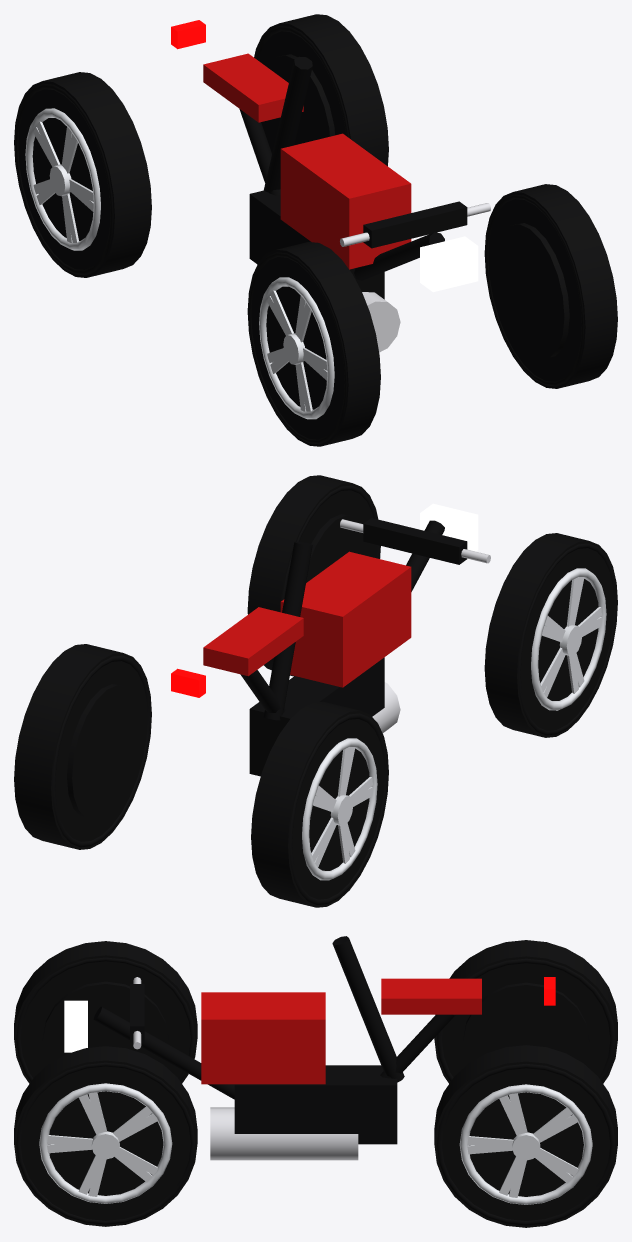
The model's file is raptor.glb.
The picture shows the model from 3 angles, top to bottom: view 1: azimuth 30°, elevation 25°; view 2: azimuth 150°, elevation 25°; view 3: azimuth 270°, elevation 25°; orthographic projection. The views are drawn at different scales.
Parts seen in each view (by area): view 1: Body, Tire, Tire4, Tire2, Tire3, Rim2, Rim4, HeadLights, TailLights; view 2: Body, Tire3, Tire4, Tire2, Tire, Rim2, Rim4, HeadLights, TailLights; view 3: Body, Tire3, Tire, Tire4, Tire2, Rim3, Rim, HeadLights.
Boxes of the visible parts, bbox=[...] form: Body: bbox=[203, 53, 490, 352]; Tire: bbox=[484, 184, 617, 388]; Tire4: bbox=[14, 72, 151, 277]; Tire2: bbox=[247, 242, 380, 446]; Tire3: bbox=[254, 14, 388, 166]; Rim2: bbox=[259, 277, 334, 419]; Rim4: bbox=[25, 108, 100, 250]; HeadLights: bbox=[420, 236, 478, 292]; TailLights: bbox=[171, 20, 205, 49]; Body: bbox=[203, 518, 490, 776]; Tire3: bbox=[14, 644, 151, 849]; Tire4: bbox=[251, 701, 388, 907]; Tire2: bbox=[484, 533, 617, 737]; Tire: bbox=[247, 475, 380, 676]; Rim2: bbox=[531, 568, 606, 710]; Rim4: bbox=[302, 738, 377, 880]; HeadLights: bbox=[420, 503, 478, 551]; TailLights: bbox=[171, 668, 205, 697]; Body: bbox=[93, 936, 481, 1160]; Tire3: bbox=[434, 1045, 617, 1227]; Tire: bbox=[14, 1046, 197, 1226]; Tire4: bbox=[434, 940, 617, 1083]; Tire2: bbox=[14, 941, 197, 1083]; Rim3: bbox=[459, 1084, 592, 1204]; Rim: bbox=[39, 1083, 172, 1203]; HeadLights: bbox=[64, 1000, 87, 1052].
Bounding box in the file's own units: 1.02 × 0.8542 × 2.04.
